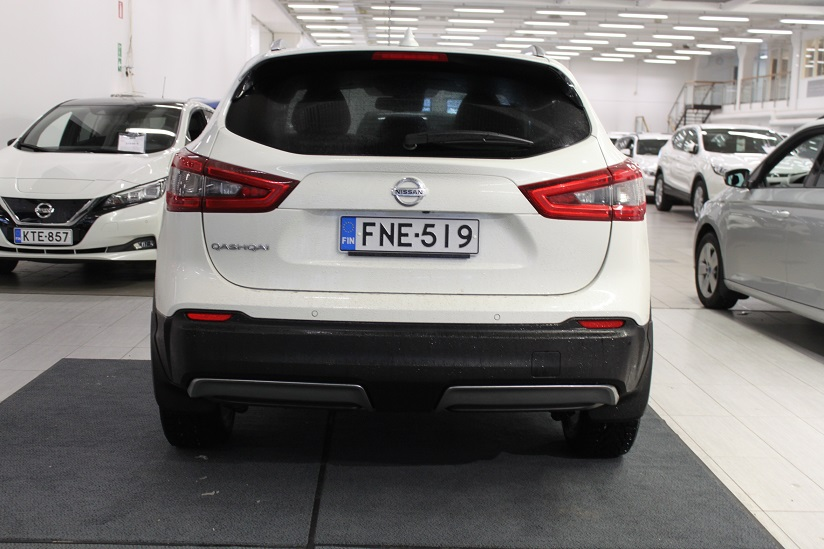license: (332, 214, 476, 258)
